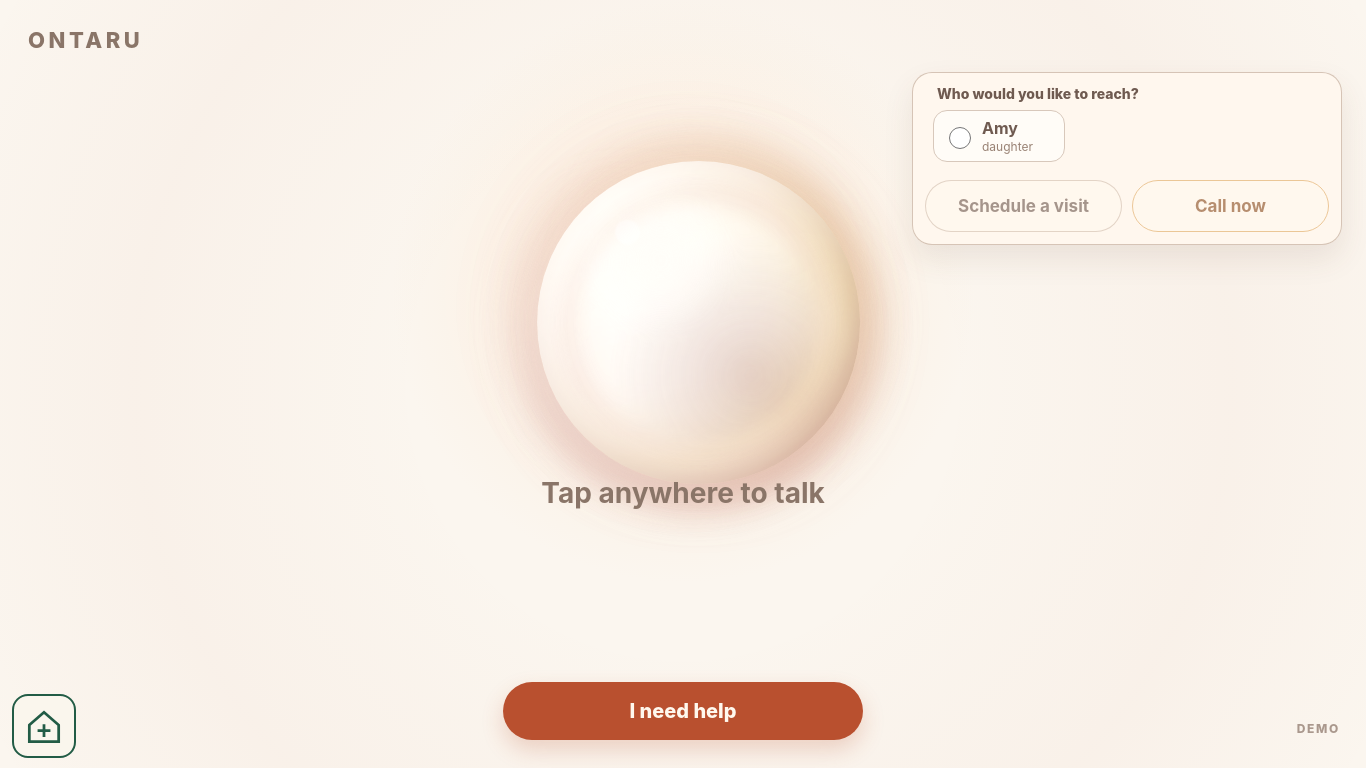
Test case: the single help action records a staff request and handles failure
Expected: the text "Tap anywhere to talk" is shown, [541, 476, 825, 510]
Click the button "I need help". click: (683, 711)
box: [503, 682, 863, 740]
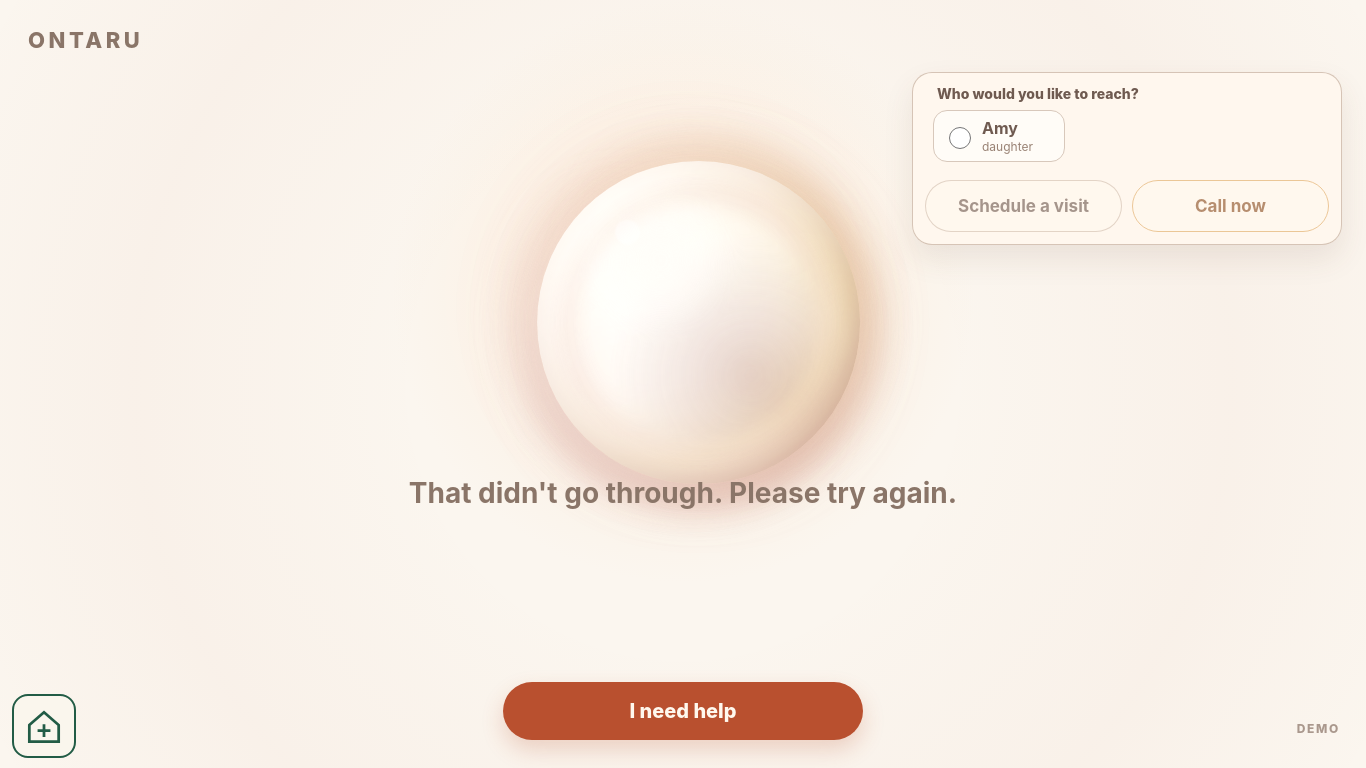
Expected: the text "That didn't go through. Please try again." is shown, [363, 476, 1003, 517]
Click the button "I need help". click: (683, 711)
box: [503, 682, 863, 740]
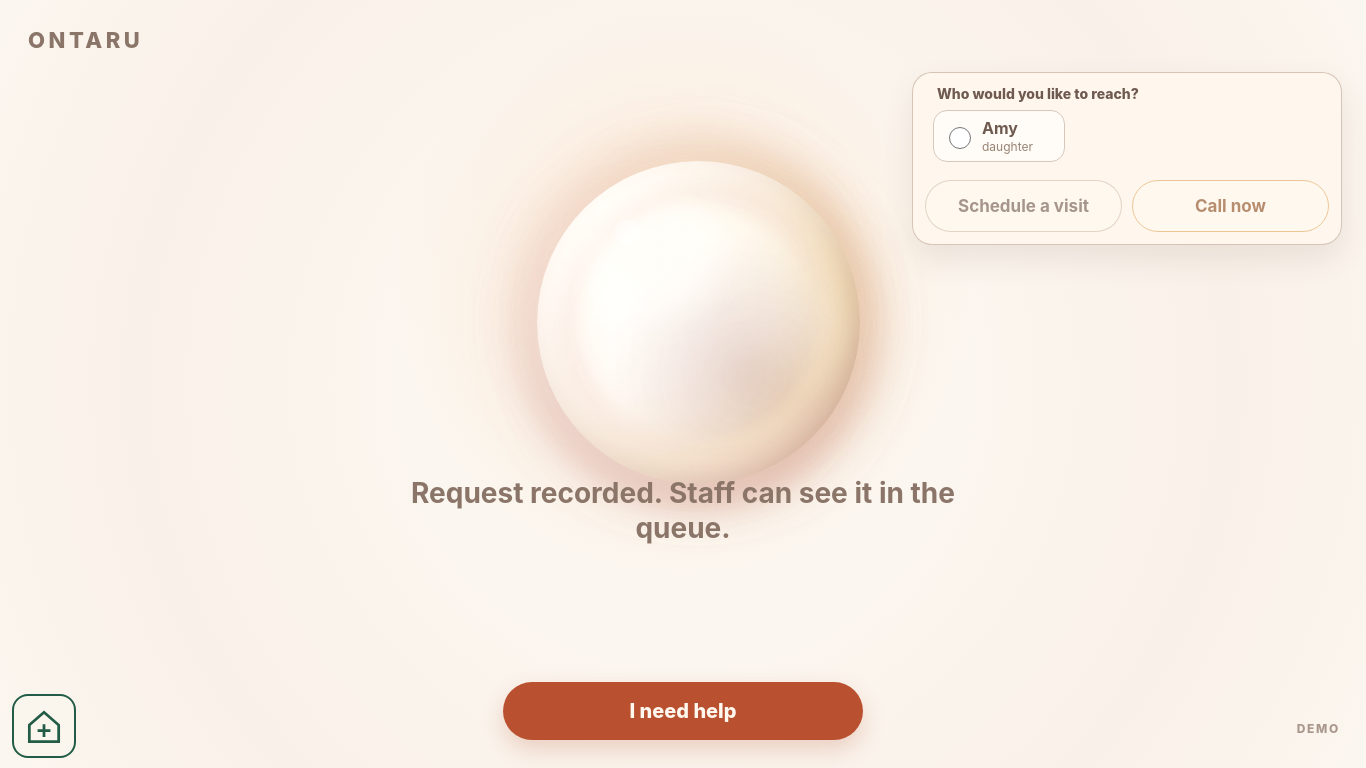
Expected: the text "Request recorded. Staff can see it in the queue." is shown, [411, 476, 955, 545]
